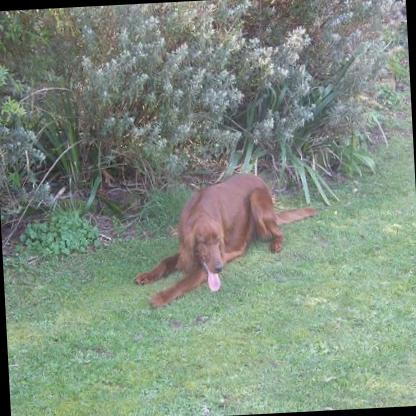Irish_setter: (128, 165, 324, 310)
